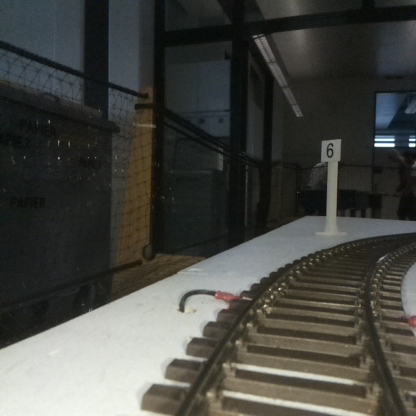white-info-6: (321, 139, 340, 234)
